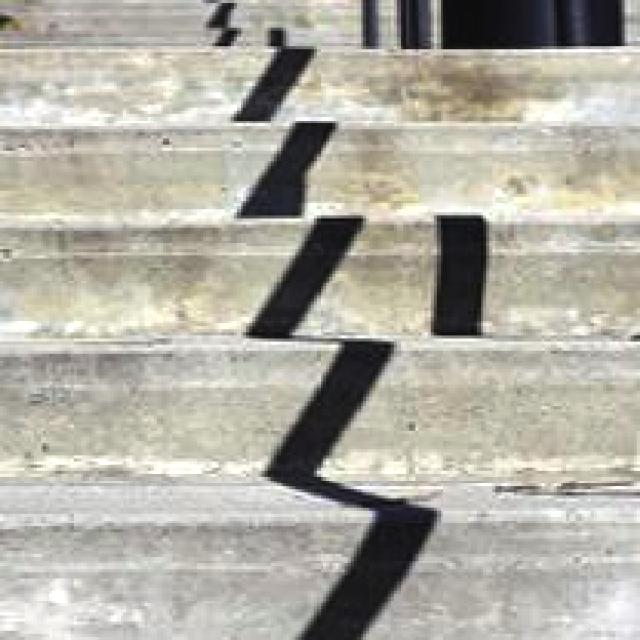upstair: (1, 35, 640, 502)
